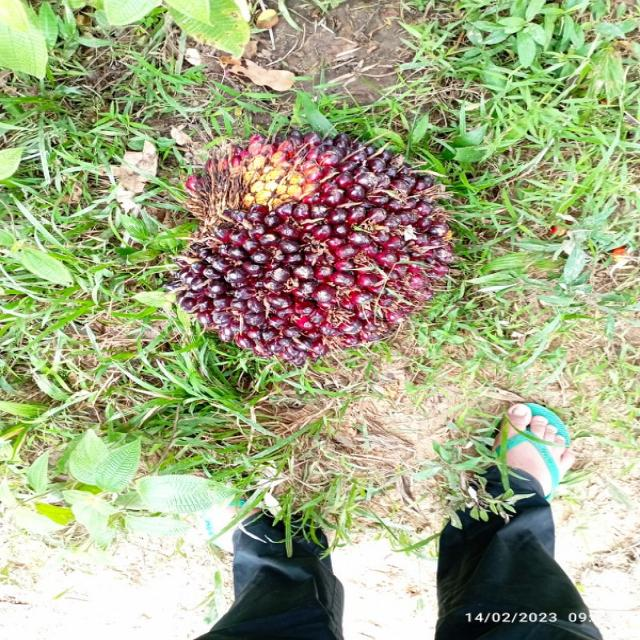fraksi 1: (154, 77, 463, 378)
